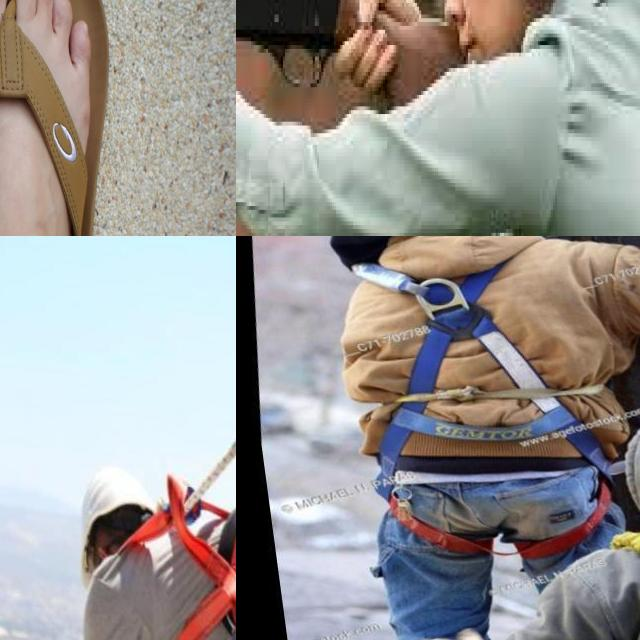Harness: (358, 264, 612, 560), (124, 476, 236, 640)
Sandals: (0, 0, 127, 236)
